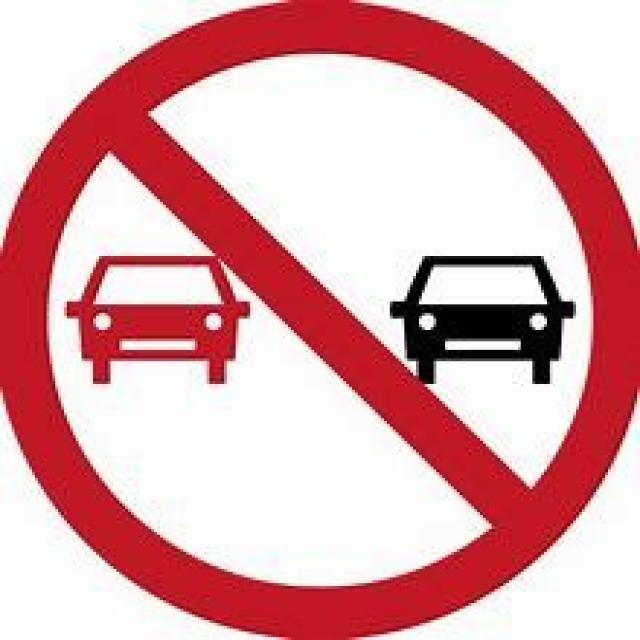overtaking prohibited: (28, 32, 613, 606)
